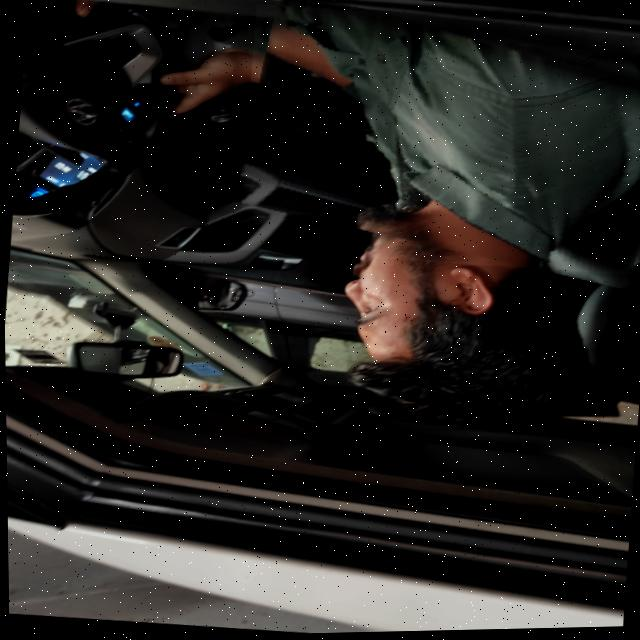no-seatbelt: (233, 0, 640, 285)
